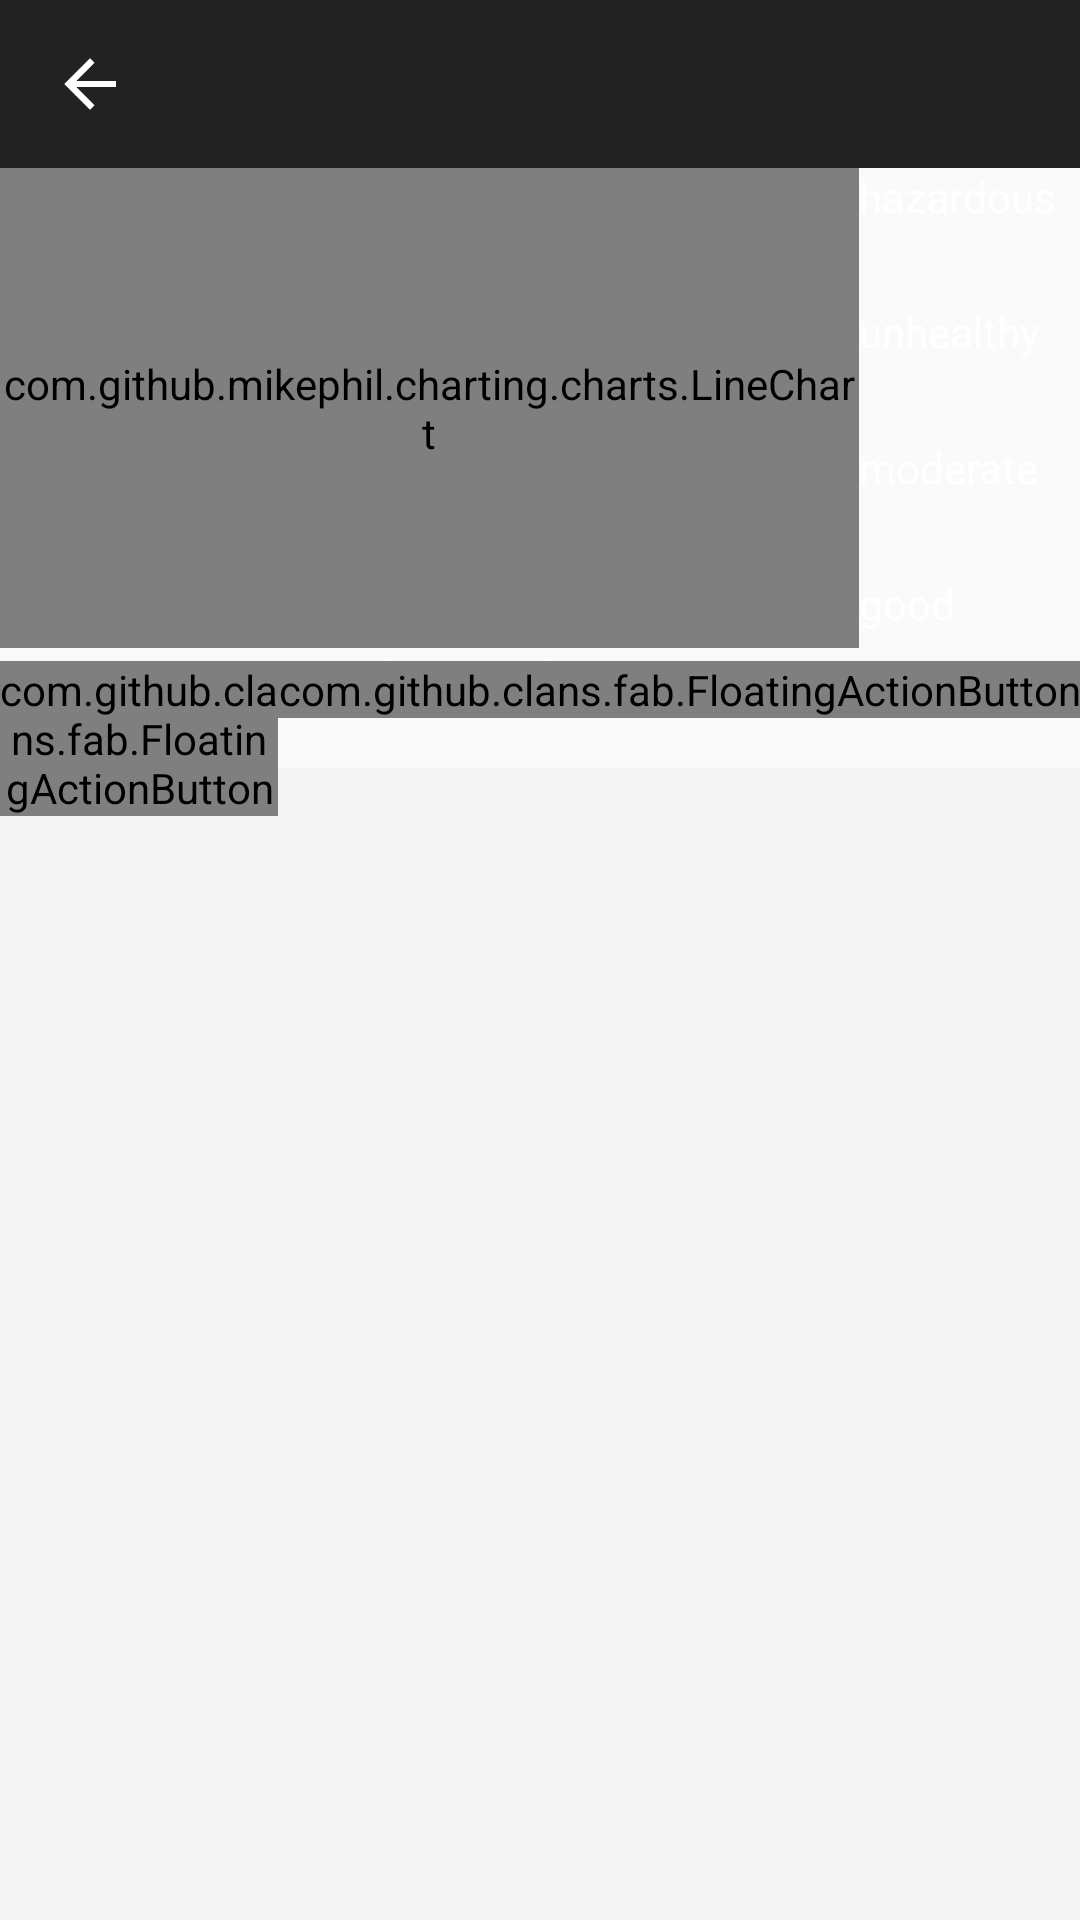

Icon bounding boxes for this 1080px x 1920px phone screenshot, format {"left": x1, "top": y1, "right": x2, "bottom": y2}:
android arrow back: {"left": 64, "top": 58, "right": 116, "bottom": 110}
